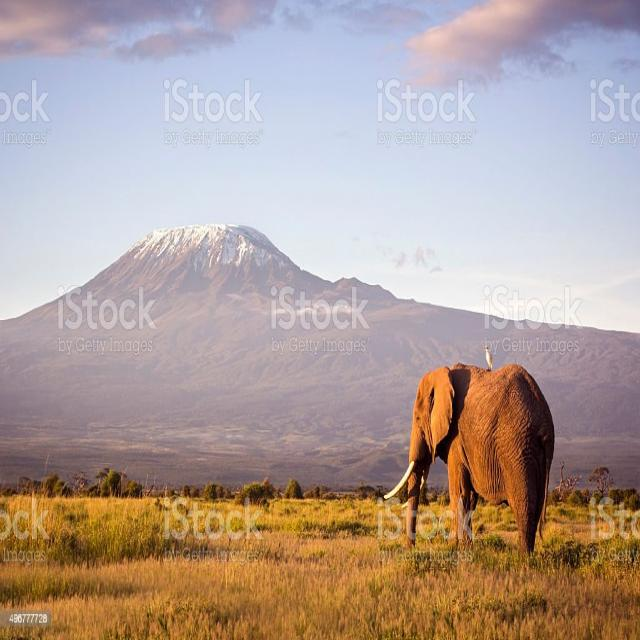Elephant: (376, 338, 564, 587)
